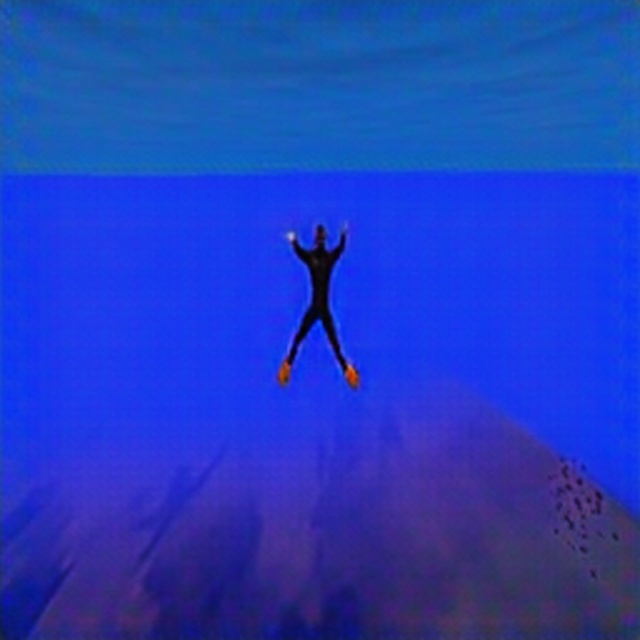diver: (275, 216, 362, 393)
